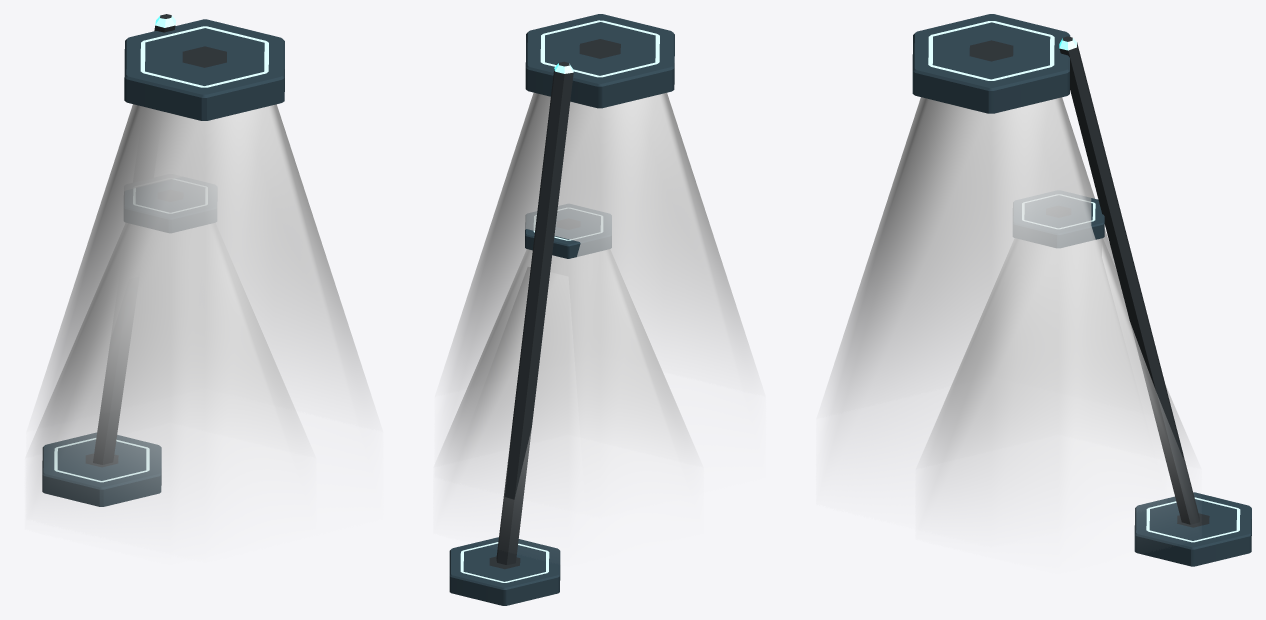
The model's file is Aero_Lampost_01.glb.
3 views of the same model, side by side, from view 1: azimuth 30°, elevation 25°; view 2: azimuth 150°, elevation 25°; view 3: azimuth 270°, elevation 25° (orthographic). The views are drawn at different scales.
Visible parts, largest first — view 1: Ray_light_01, Ray_light_02, Aero_Lampost_01; view 2: Ray_light_01, Ray_light_02, Aero_Lampost_01; view 3: Ray_light_01, Ray_light_02, Aero_Lampost_01.
Boxes of the visible parts, x1,y1,x2,y2 form: Ray_light_01: (35,104,374,493); Ray_light_02: (34,223,304,506); Aero_Lampost_01: (42,14,284,506); Ray_light_01: (442,92,757,453); Ray_light_02: (442,249,694,518); Aero_Lampost_01: (449,14,674,605); Ray_light_01: (824,97,1148,479); Ray_light_02: (926,238,1193,520); Aero_Lampost_01: (912,14,1251,566).
Bounding box in the file's own units: 6.32 × 8.21 × 6.56.
4 materials, 2 textured.
